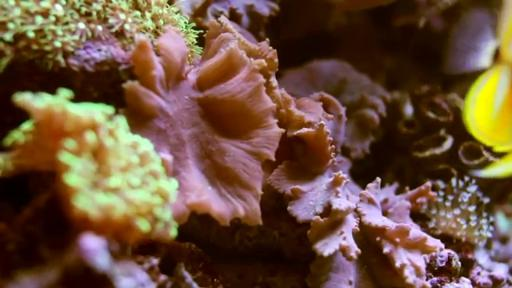Fish: (463, 0, 511, 178)
